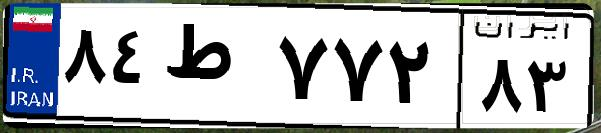2: (385, 28, 445, 110)
3: (525, 38, 570, 115)
4: (110, 28, 158, 98)
7: (270, 28, 330, 110), (330, 28, 385, 110)
8: (57, 26, 110, 100), (475, 38, 525, 113)
ط: (158, 20, 270, 120)
